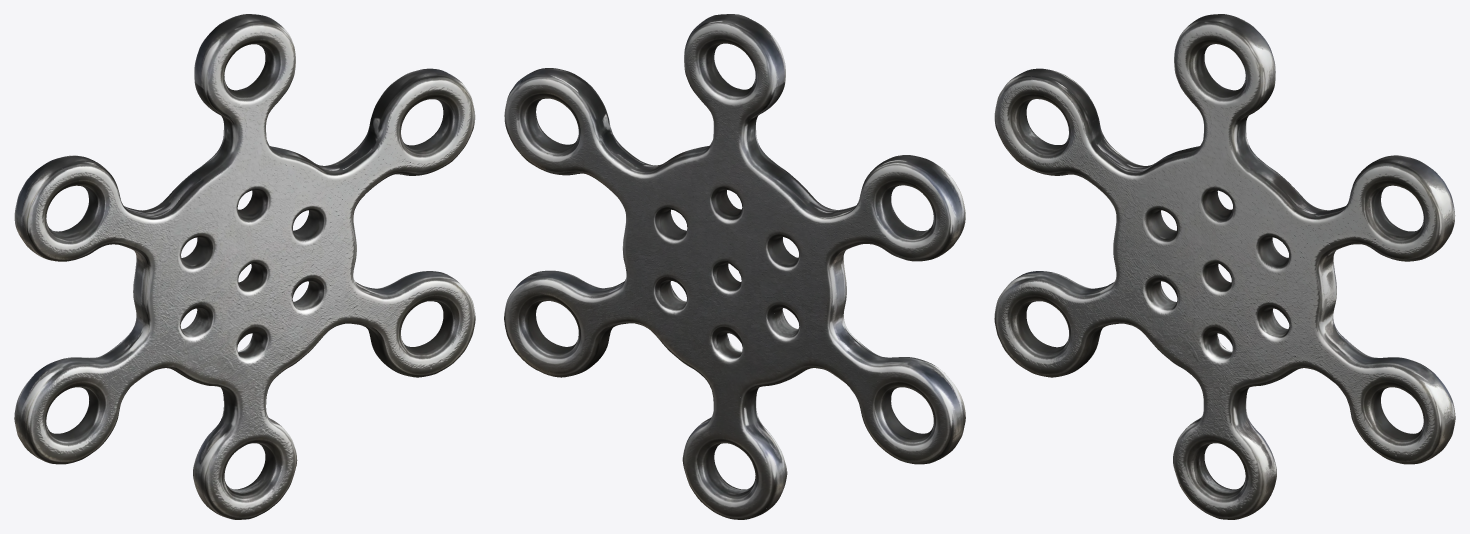
File: sample_star_plate.glb
The picture shows the model from 3 angles, left to right: view 1: azimuth 30°, elevation 25°; view 2: azimuth 150°, elevation 25°; view 3: azimuth 330°, elevation 25°; orthographic projection.
Parts seen in each view (by area): view 1: tripo_node_06de858d-733e-444f-b6c9-2c0f4be65d4d; view 2: tripo_node_06de858d-733e-444f-b6c9-2c0f4be65d4d; view 3: tripo_node_06de858d-733e-444f-b6c9-2c0f4be65d4d.
Part boxes in pixels (x1=…): tripo_node_06de858d-733e-444f-b6c9-2c0f4be65d4d: x1=14, y1=14, x2=475, y2=519; tripo_node_06de858d-733e-444f-b6c9-2c0f4be65d4d: x1=504, y1=14, x2=965, y2=519; tripo_node_06de858d-733e-444f-b6c9-2c0f4be65d4d: x1=994, y1=14, x2=1455, y2=519.
Bounding box in the file's own units: 0.9292 × 0.9798 × 0.0554.
Materials: 1 (1 with a texture image).
